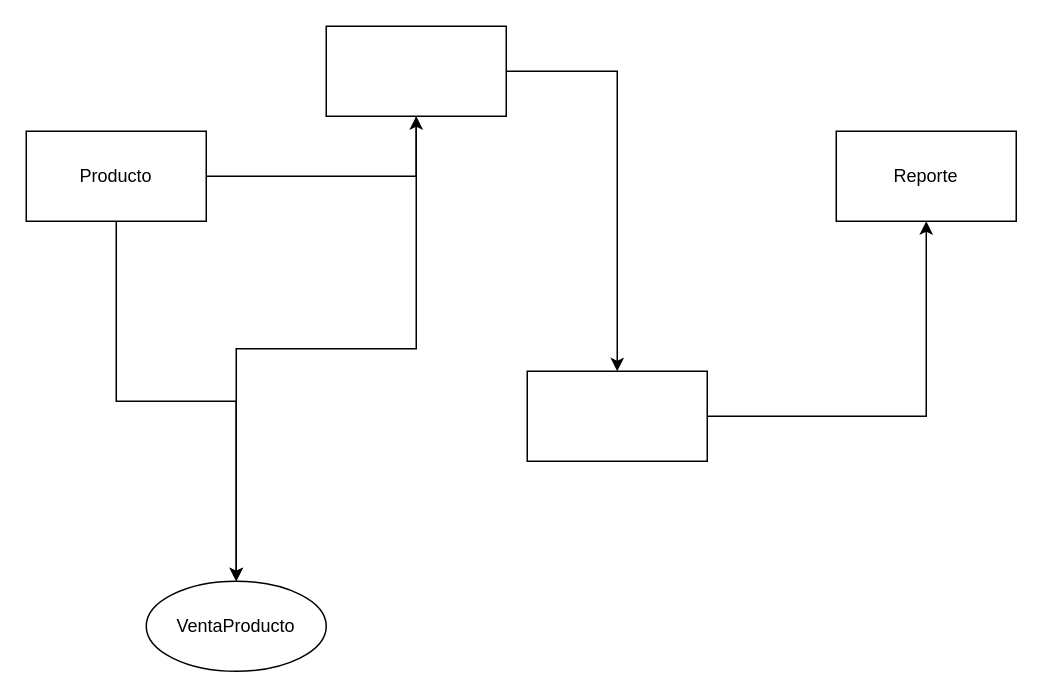
The diagram is 1043 pixels wide and 698 high, and some of its shapes have lost their labels. The centre of each missing label's shape, as x and y in pixels:
Empleado: (x=616, y=415)
Venta: (x=415, y=70)
